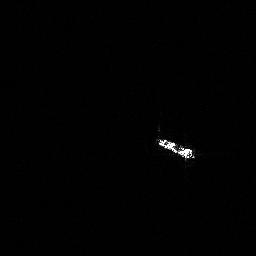ship: (153, 132, 200, 163)
